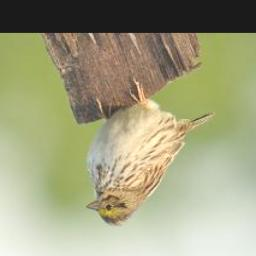Sparrow: (81, 79, 214, 228)
